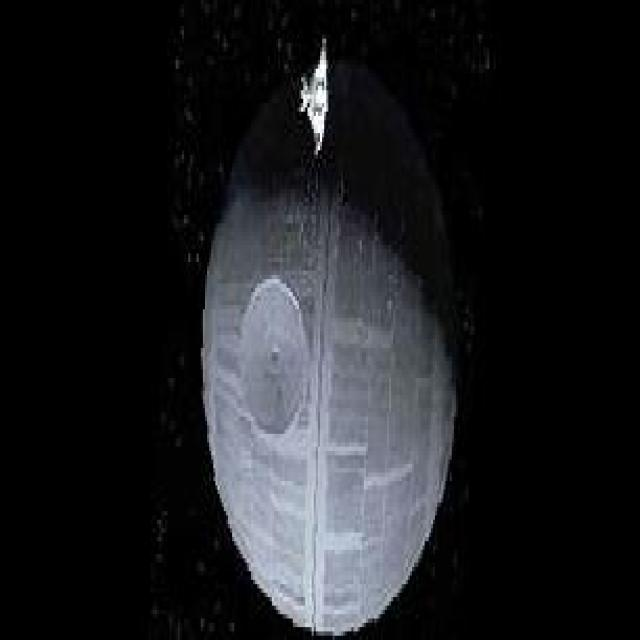Death Star: (195, 34, 462, 632)
